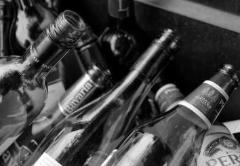glass: (0, 8, 240, 166)
